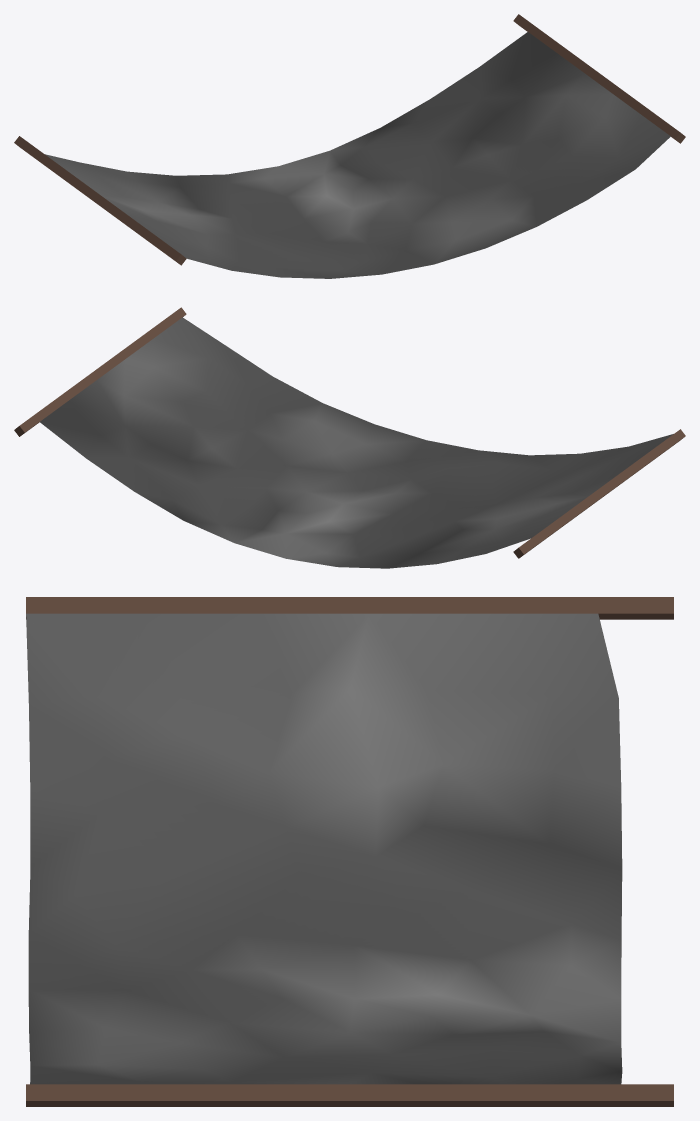
File: Prop_OverhangH.fbx
The picture shows the model from 3 angles, top to bottom: view 1: azimuth 30°, elevation 25°; view 2: azimuth 150°, elevation 25°; view 3: azimuth 270°, elevation 25°; orthographic projection. The views are drawn at different scales.
Parts seen in each view (by area): view 1: Prop_OverhangH; view 2: Prop_OverhangH; view 3: Prop_OverhangH.
Part boxes in pixels (bbox=[...]): Prop_OverhangH: bbox=[14, 14, 685, 278]; Prop_OverhangH: bbox=[14, 307, 685, 568]; Prop_OverhangH: bbox=[26, 597, 673, 1106].
Size of the model in its own units: 500 by 75.68 by 275.
